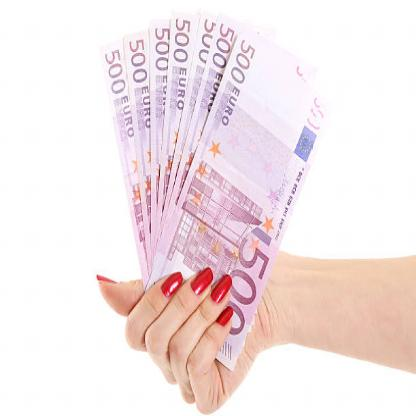billete: (96, 3, 328, 373)
